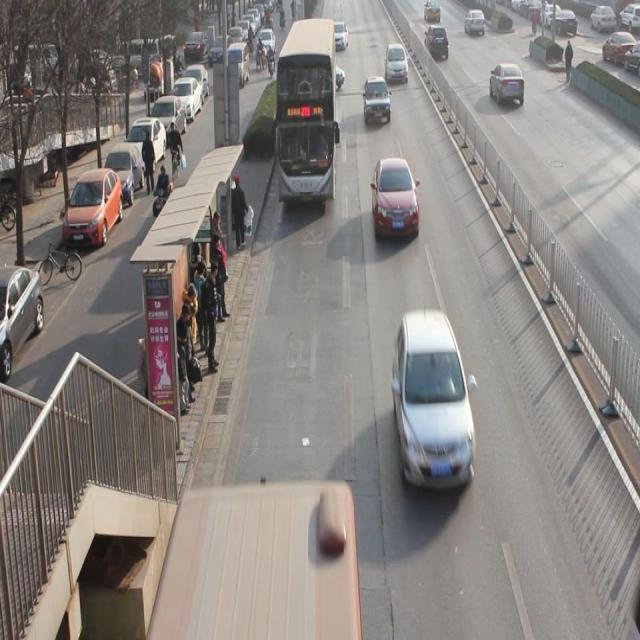car: (392, 315, 477, 492), (371, 162, 421, 240), (488, 60, 526, 109), (302, 51, 346, 91), (363, 79, 392, 126), (385, 45, 409, 83), (424, 27, 450, 62), (328, 20, 348, 51)
van: (143, 489, 359, 640), (276, 17, 335, 202)
